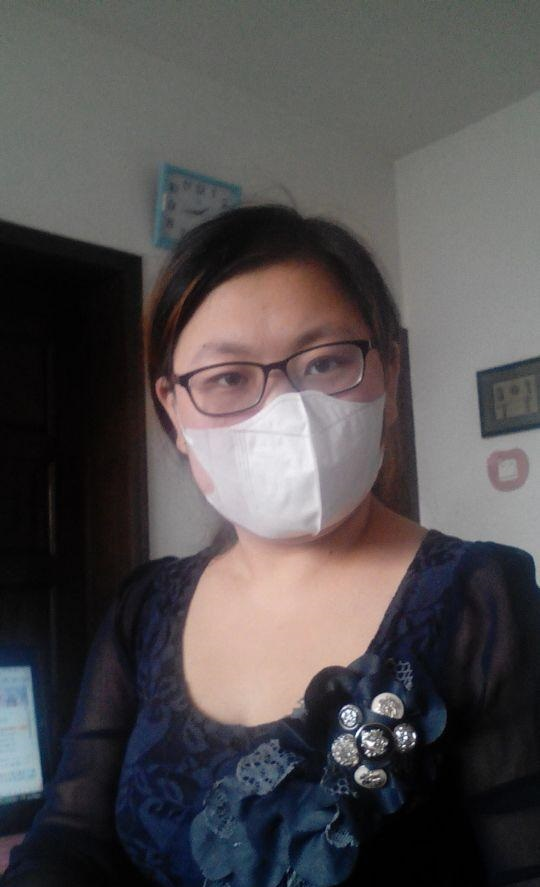face_mask: (182, 274, 388, 532)
